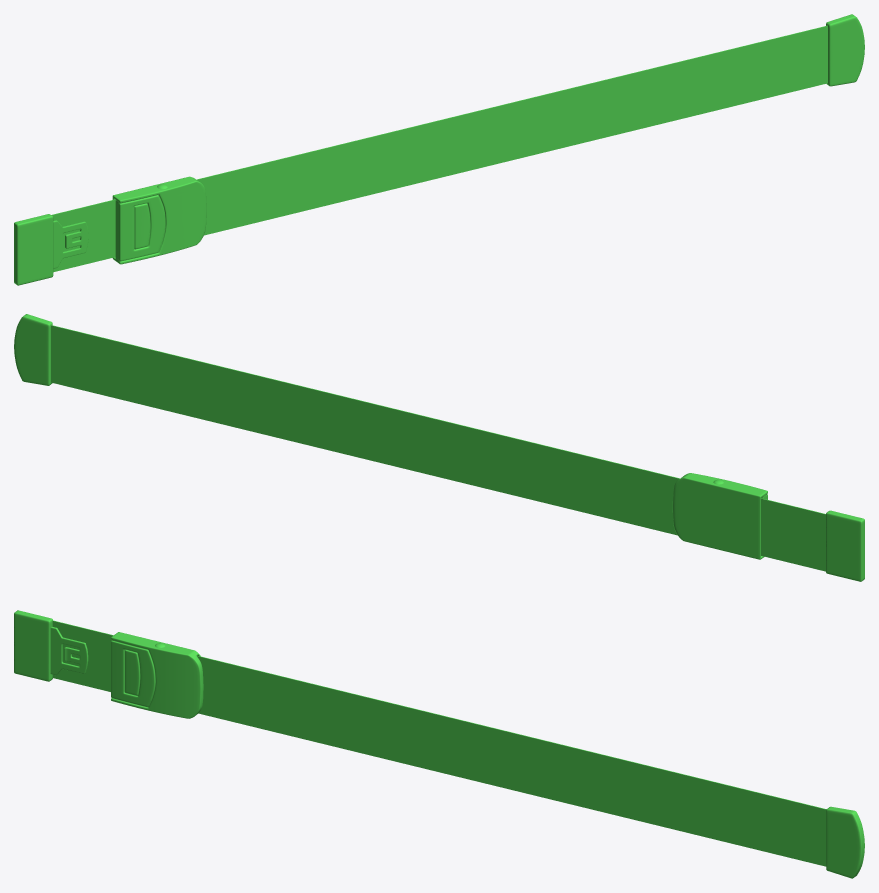
File: Tourniquet.FBX
The picture shows the model from 3 angles, top to bottom: view 1: azimuth 30°, elevation 25°; view 2: azimuth 150°, elevation 25°; view 3: azimuth 330°, elevation 25°; orthographic projection.
Visible parts, largest first — view 1: Tourniquet; view 2: Tourniquet; view 3: Tourniquet.
Part boxes in pixels (x1,y1,x2,y2): Tourniquet: (14,14,864,285); Tourniquet: (14,314,864,581); Tourniquet: (14,610,864,878).
Bounding box in the file's own units: 38.74 × 2.93 × 0.7052.
